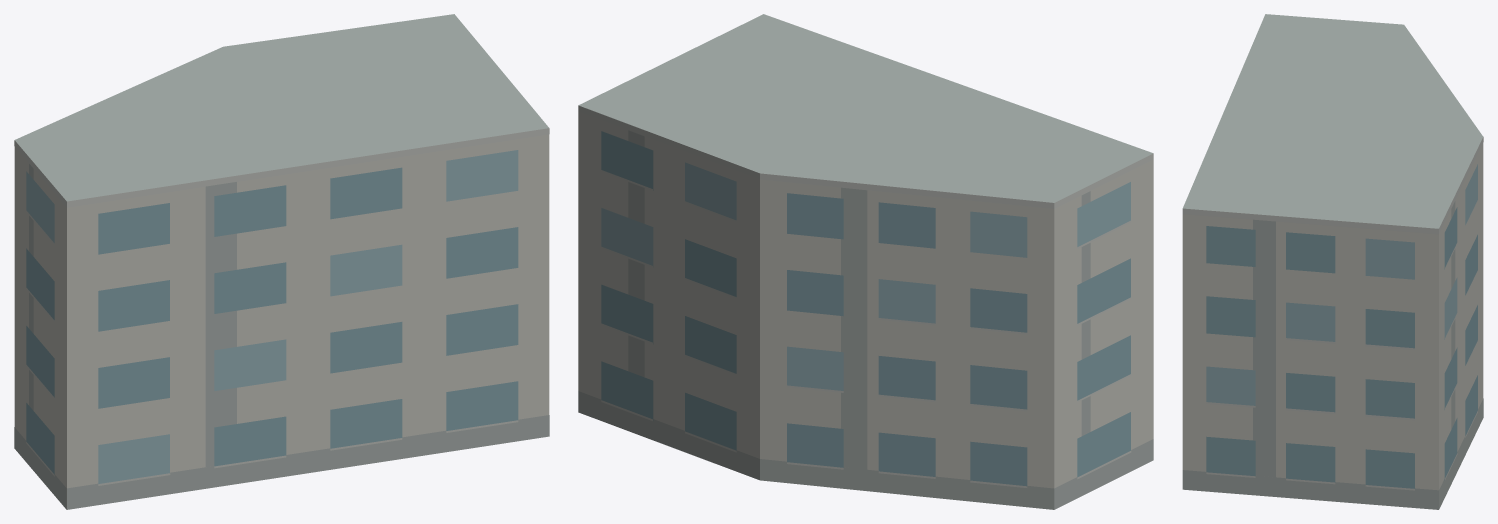
The model's file is survey-upis-32827889.glb.
3 views of the same model, side by side, from view 1: azimuth 30°, elevation 25°; view 2: azimuth 150°, elevation 25°; view 3: azimuth 270°, elevation 25° (orthographic). The views are drawn at different scales.
Visible parts, largest first — view 1: survey-upis-32827889.tmp; view 2: survey-upis-32827889.tmp; view 3: survey-upis-32827889.tmp.
Boxes of the visible parts, x1,y1,x2,y2 form: survey-upis-32827889.tmp: (14,14,549,509); survey-upis-32827889.tmp: (578,14,1153,509); survey-upis-32827889.tmp: (1182,14,1483,509).
Bounding box in the file's own units: 20 × 12.2 × 11.84.
